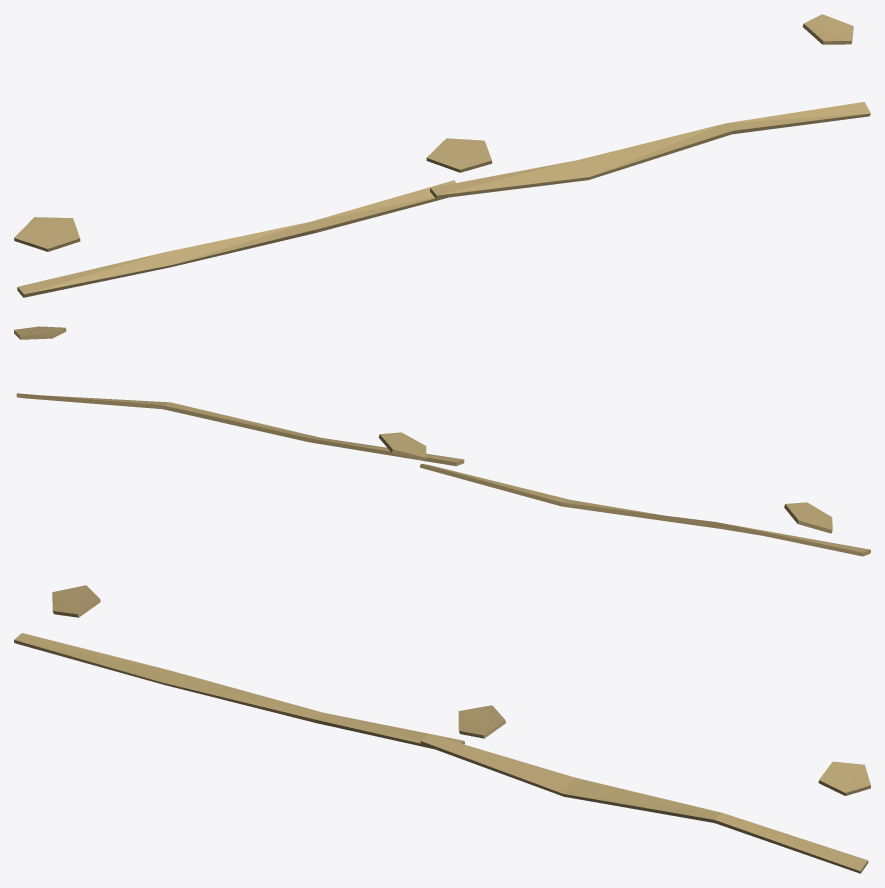
File: fence_a_snow.fbx
The picture shows the model from 3 angles, top to bottom: view 1: azimuth 30°, elevation 25°; view 2: azimuth 150°, elevation 25°; view 3: azimuth 330°, elevation 25°; orthographic projection. The views are drawn at different scales.
Parts seen in each view (by area): view 1: LowPolyFence_01.001; view 2: LowPolyFence_01.001; view 3: LowPolyFence_01.001.
Boxes of the visible parts, bbox=[...] form: LowPolyFence_01.001: bbox=[14, 14, 870, 297]; LowPolyFence_01.001: bbox=[14, 326, 870, 556]; LowPolyFence_01.001: bbox=[14, 585, 870, 873].
Bounding box in the file's own units: 482 × 48.62 × 39.65.
